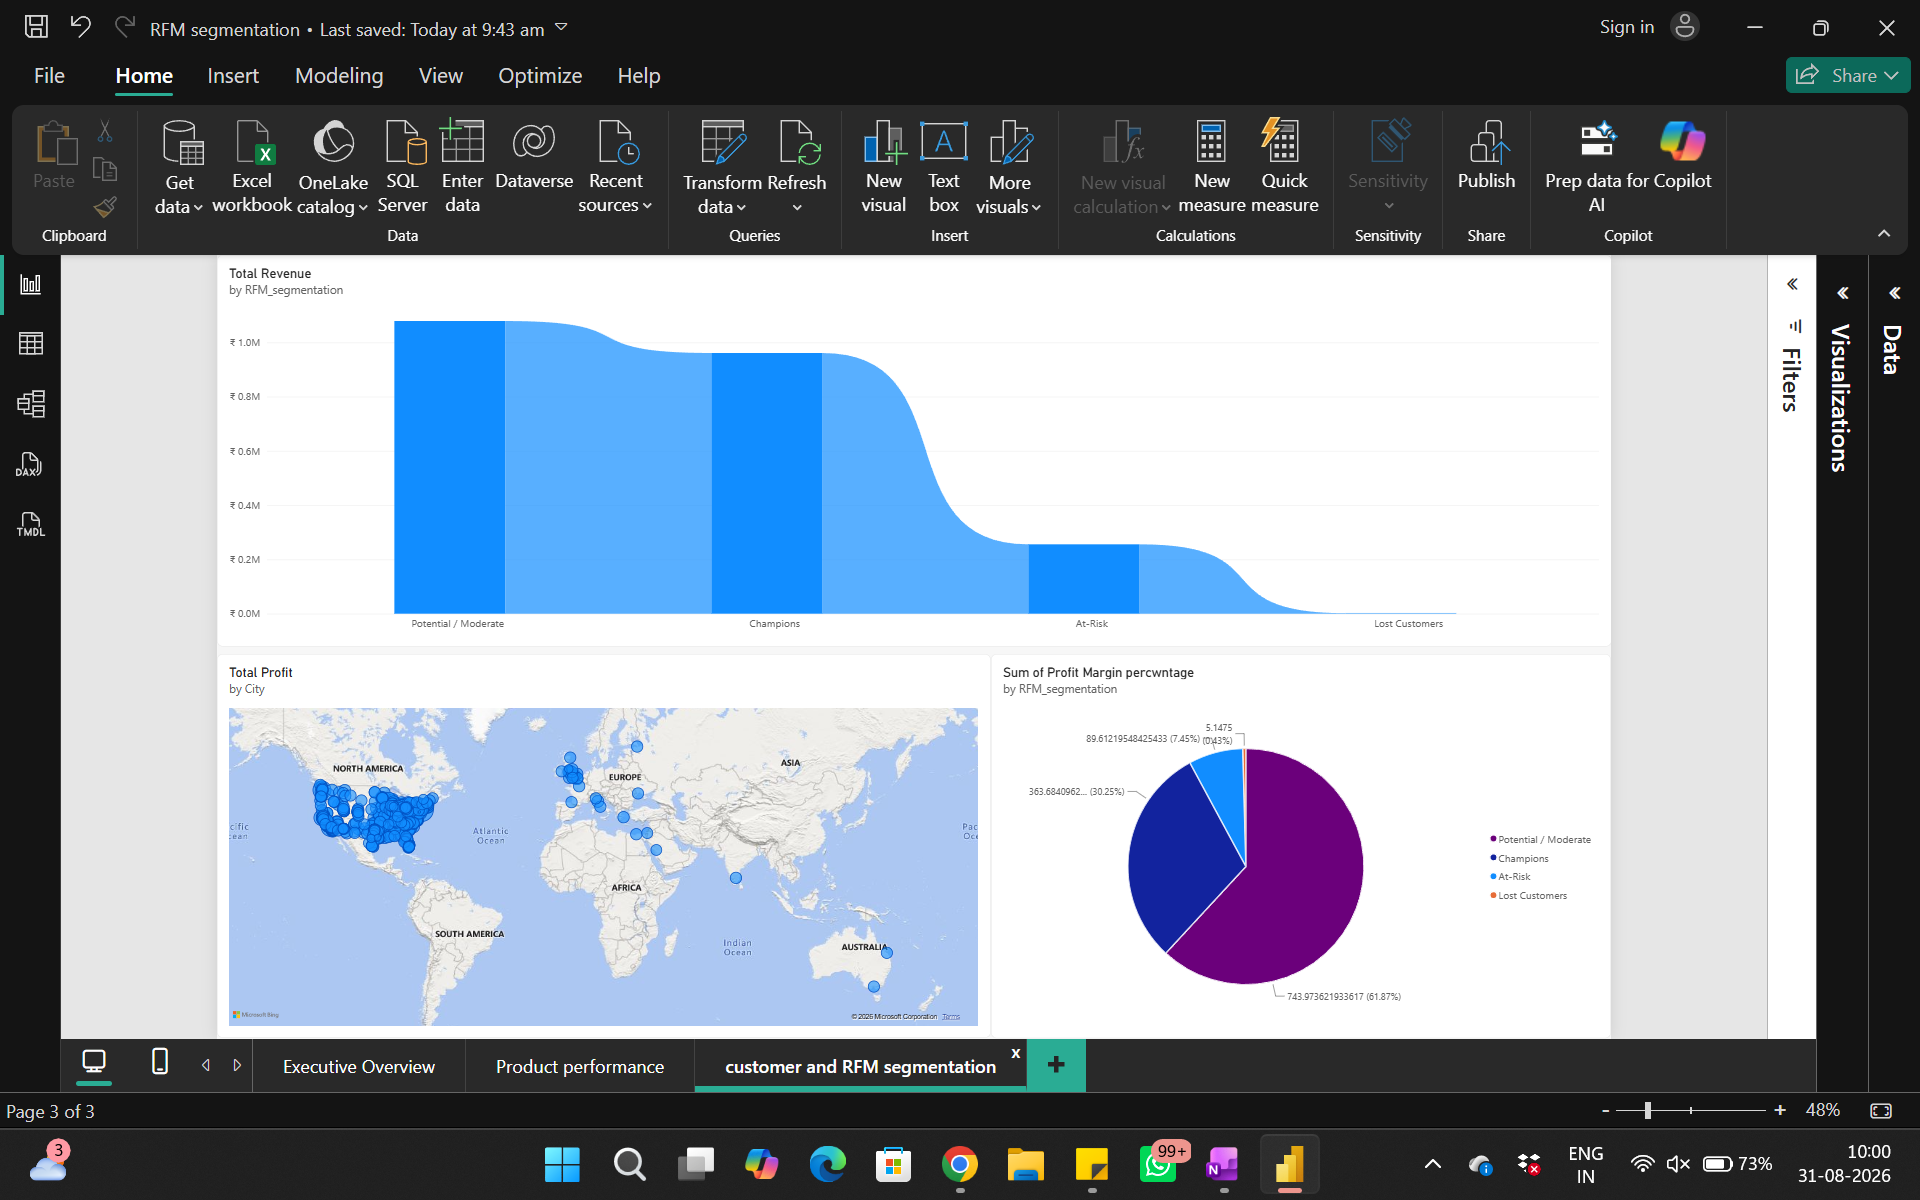

The page's visual inventory and layout, read from the dashboard file:
{"tool":"powerbi","page":{"name":"customer and RFM segmentation ","canvas":[1920,1080],"ordinal":2},"visuals":[{"type":"ribbonChart","fields":{"Category":["Customer_RFM.RFM_segmentation"],"Y":["Sample_-_Superstore[1].Total Revenue"]},"box":[0,0,1921.1,539.5],"z":0},{"type":"map","fields":{"Category":["Sample_-_Superstore[1].City"],"Size":["Sample_-_Superstore[1].Total Profit"]},"box":[0,550,1065.8,528.9],"z":1},{"type":"pieChart","fields":{"Category":["Customer_RFM.RFM_segmentation"],"Y":["Sum(Sample_-_Superstore[1].Profit Margin percwntage )"]},"box":[1066,550,854,529],"z":2}]}

Visuals, with their boxes on the page's 1920x1080 design canvas (x1, y1, x2, y2). These are canvas units, not pixel positions in the 1920x1200 screenshot, which may show the page scaled, cropped or inside an application window:
ribbonChart - Customer_RFM.RFM_segmentation x Sample_-_Superstore[1].Total Revenue: (0, 0, 1921, 540)
map - Sample_-_Superstore[1].City x Sample_-_Superstore[1].Total Profit: (0, 550, 1066, 1079)
pieChart - Customer_RFM.RFM_segmentation x Sum(Sample_-_Superstore[1].Profit Margin percwntage ): (1066, 550, 1920, 1079)
